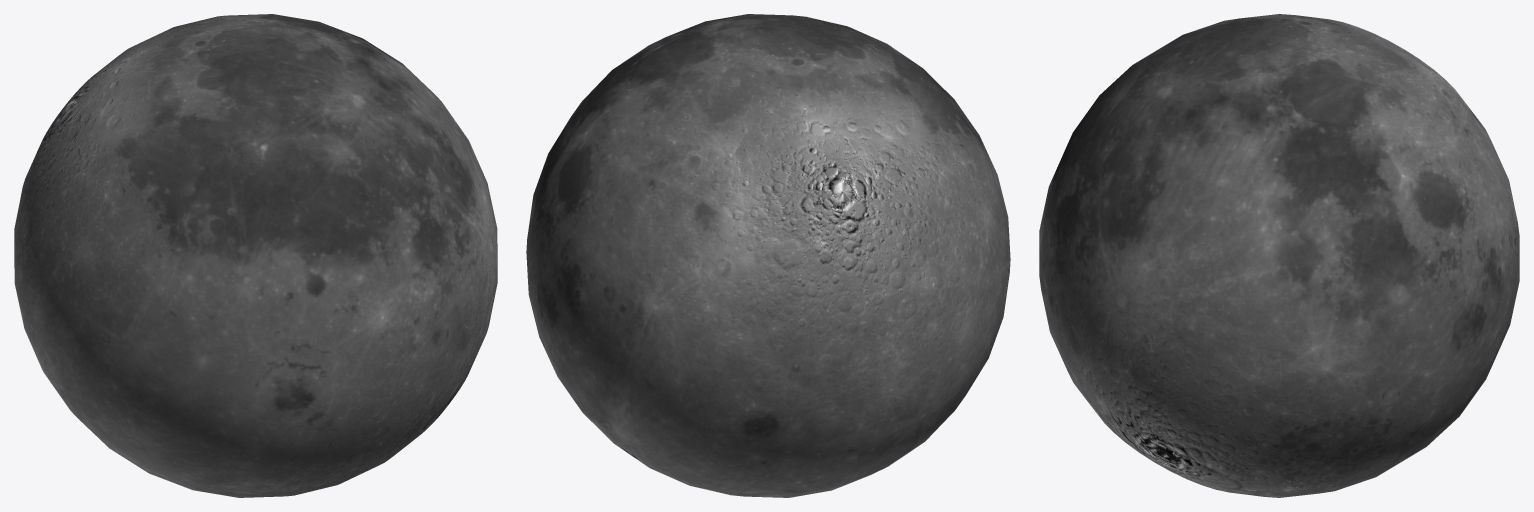
3 renders of one model, left to right at view 1: azimuth 30°, elevation 25°; view 2: azimuth 150°, elevation 25°; view 3: azimuth 270°, elevation 25°, orthographic.
Parts seen in each view (by area): view 1: Moon; view 2: Moon; view 3: Moon.
Boxes of the visible parts, x1,y1,x2,y2 form: Moon: (14,14,497,497); Moon: (526,14,1010,497); Moon: (1039,14,1519,497).
Bounding box in the file's own units: 14.44 × 14.4 × 14.41.
1 material, 1 textured.
